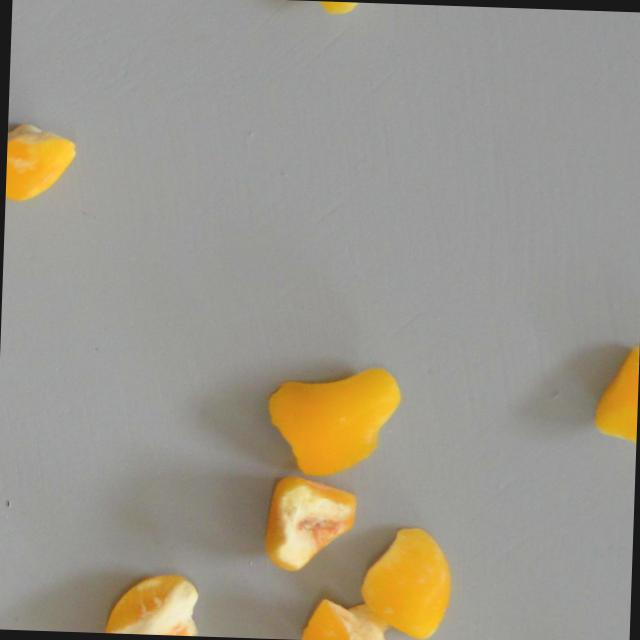dañado: (262, 474, 358, 574), (100, 570, 199, 636)
estandar: (261, 360, 401, 479), (357, 524, 452, 640), (590, 344, 639, 447), (264, 0, 372, 16)
no_canjicado: (4, 121, 77, 204)
pelicula: (298, 595, 400, 640)
